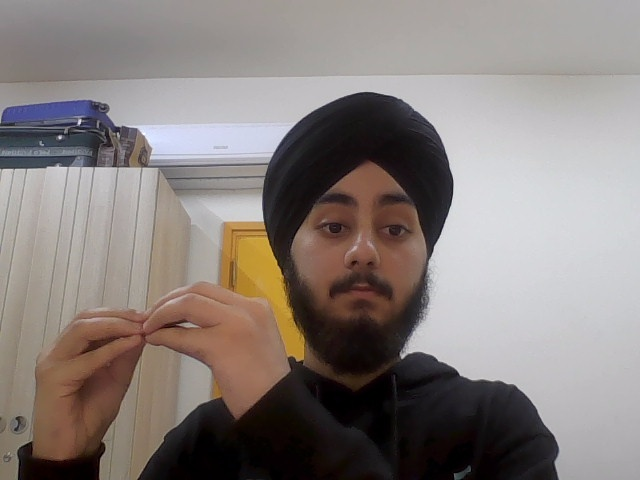More: (32, 268, 293, 460)
